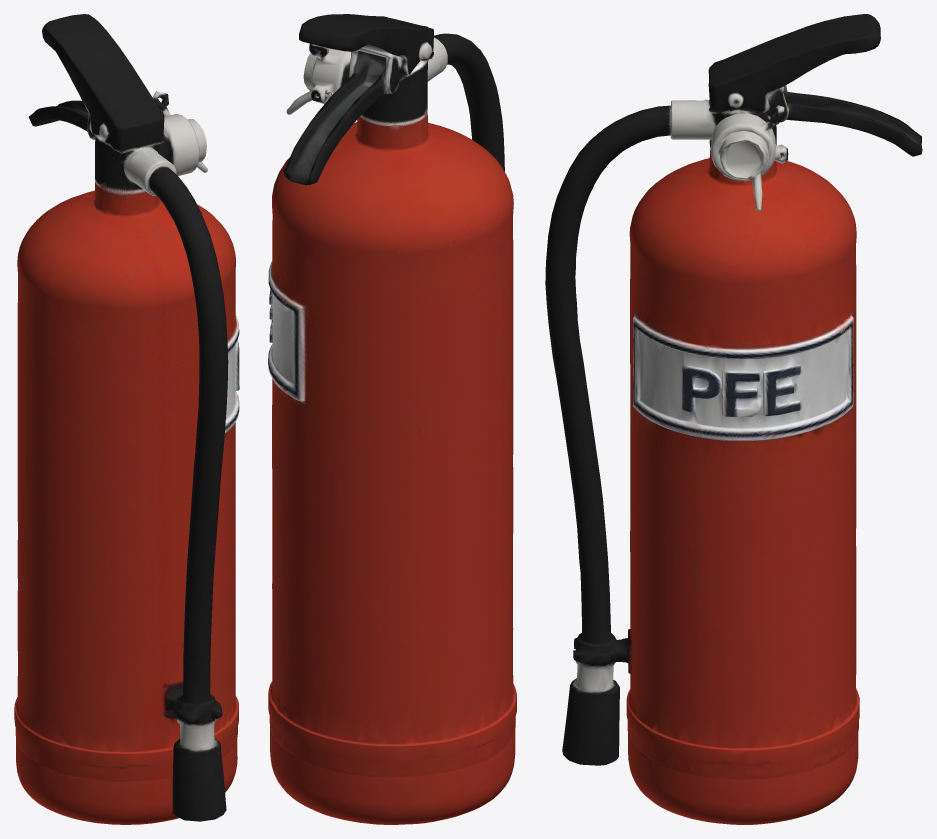
Rendered from pfe.glb.
The picture shows the model from 3 angles, left to right: view 1: azimuth 30°, elevation 25°; view 2: azimuth 150°, elevation 25°; view 3: azimuth 270°, elevation 25°; orthographic projection. The views are drawn at different scales.
Parts seen in each view (by area): view 1: tripo_node_291dc527-19d0-412c-8bf6-b5b4d77cfef4; view 2: tripo_node_291dc527-19d0-412c-8bf6-b5b4d77cfef4; view 3: tripo_node_291dc527-19d0-412c-8bf6-b5b4d77cfef4.
Boxes of the visible parts, bbox=[...] form: tripo_node_291dc527-19d0-412c-8bf6-b5b4d77cfef4: bbox=[14, 14, 239, 824]; tripo_node_291dc527-19d0-412c-8bf6-b5b4d77cfef4: bbox=[268, 14, 516, 824]; tripo_node_291dc527-19d0-412c-8bf6-b5b4d77cfef4: bbox=[545, 14, 922, 824].
Size of the model in its own units: 0.2838 by 1 by 0.4504.
Materials: 1 (1 with a texture image).
